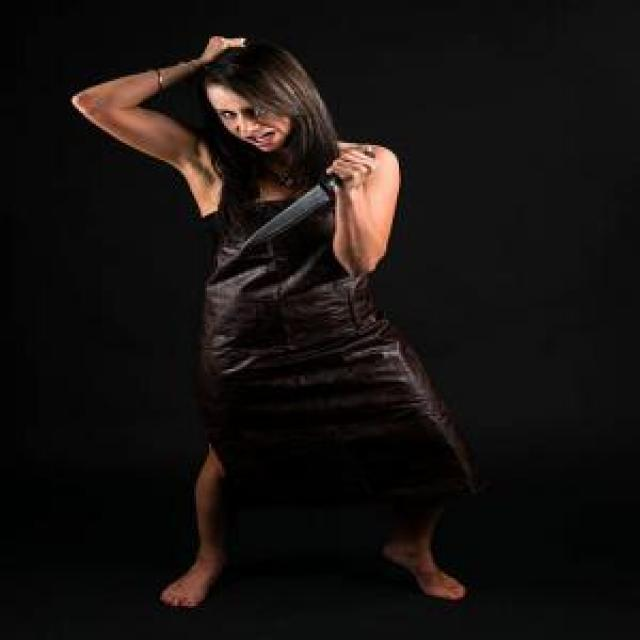knife: (232, 147, 374, 258)
